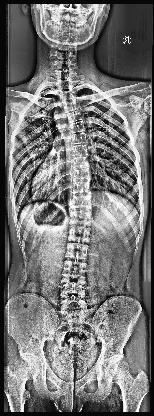Vertebrae: (62, 260, 88, 278), (60, 278, 88, 294), (65, 242, 89, 260), (60, 296, 90, 310), (66, 226, 91, 242), (70, 210, 91, 226), (72, 181, 92, 195), (72, 196, 92, 210), (72, 168, 91, 182), (70, 144, 90, 156), (69, 121, 87, 134), (72, 156, 90, 168), (67, 112, 85, 122), (70, 134, 88, 144), (64, 102, 80, 112)
